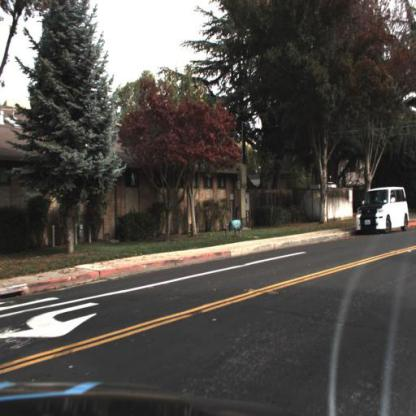car: (355, 185, 411, 236)
